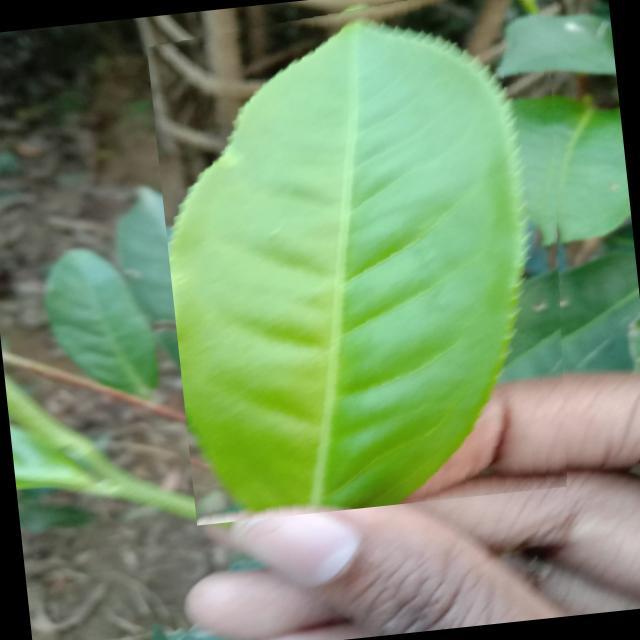Category C 4-7 days: (143, 0, 600, 525)
